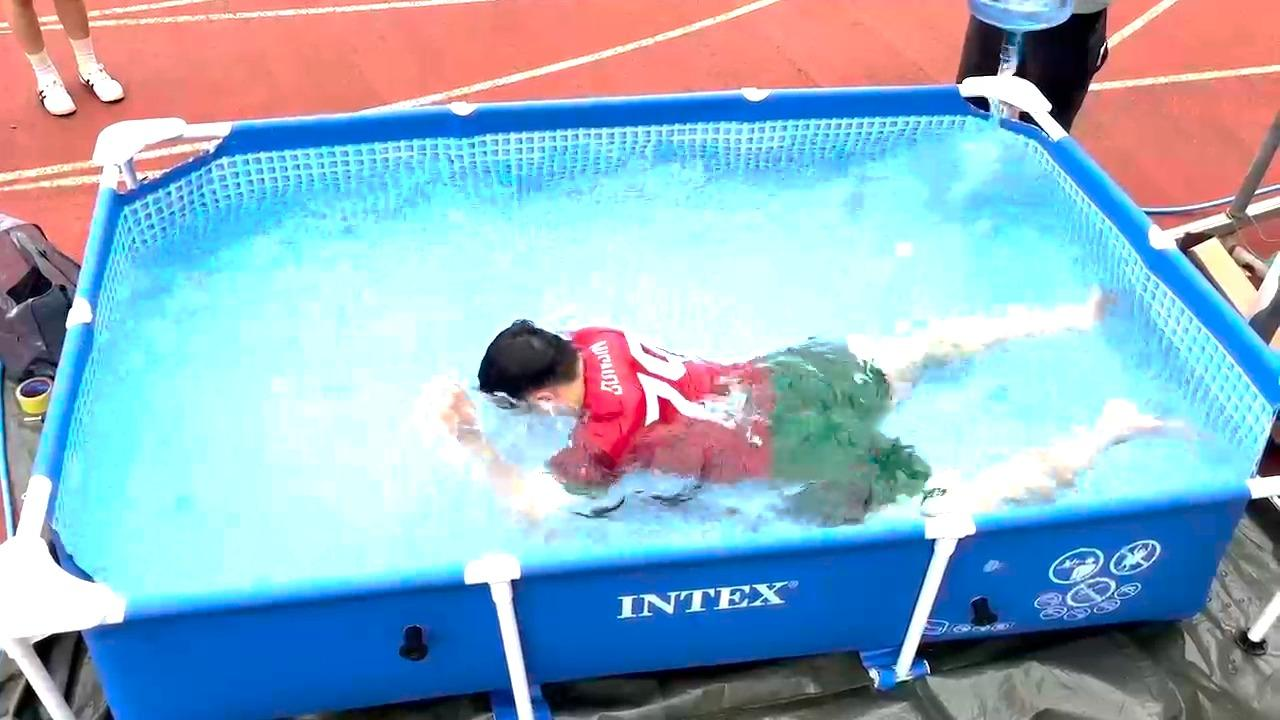Drowning: (389, 282, 1195, 545)
